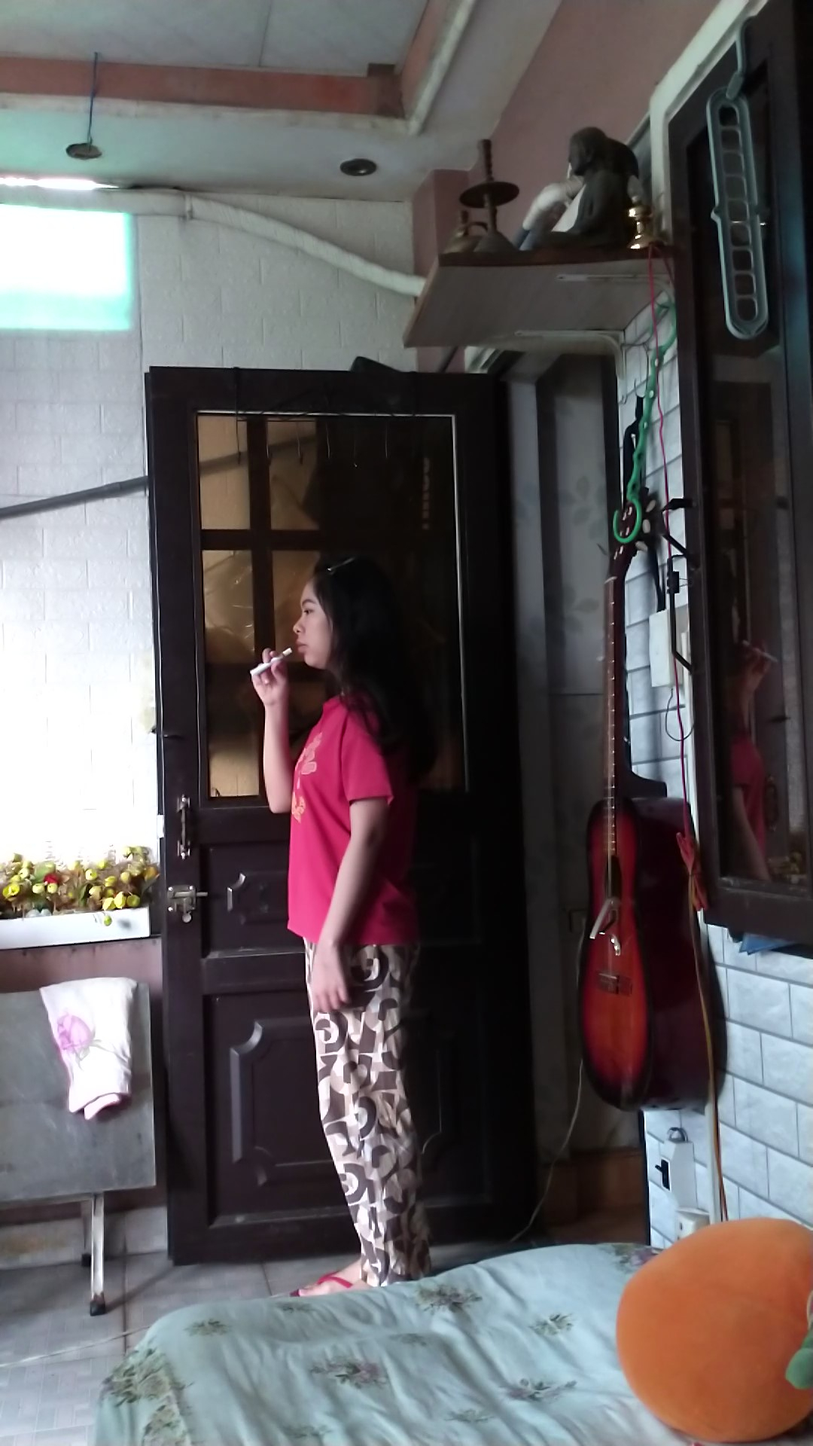cigarette: (246, 646, 294, 679)
person: (259, 557, 433, 1268)
